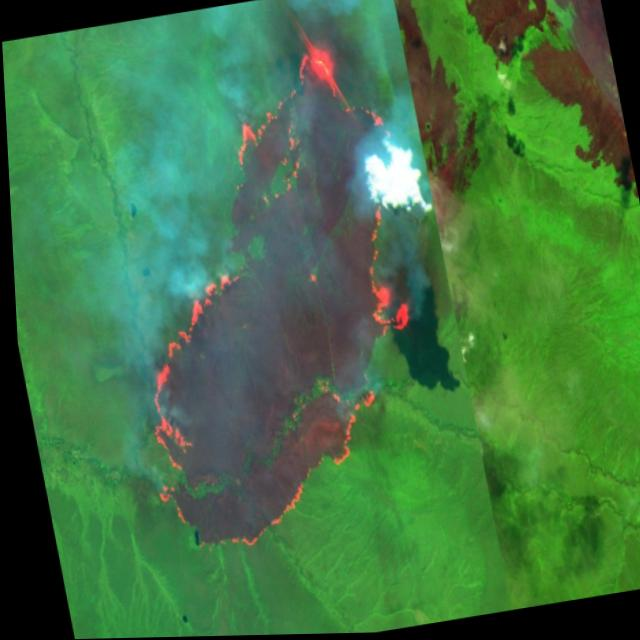fire: (65, 25, 470, 573)
